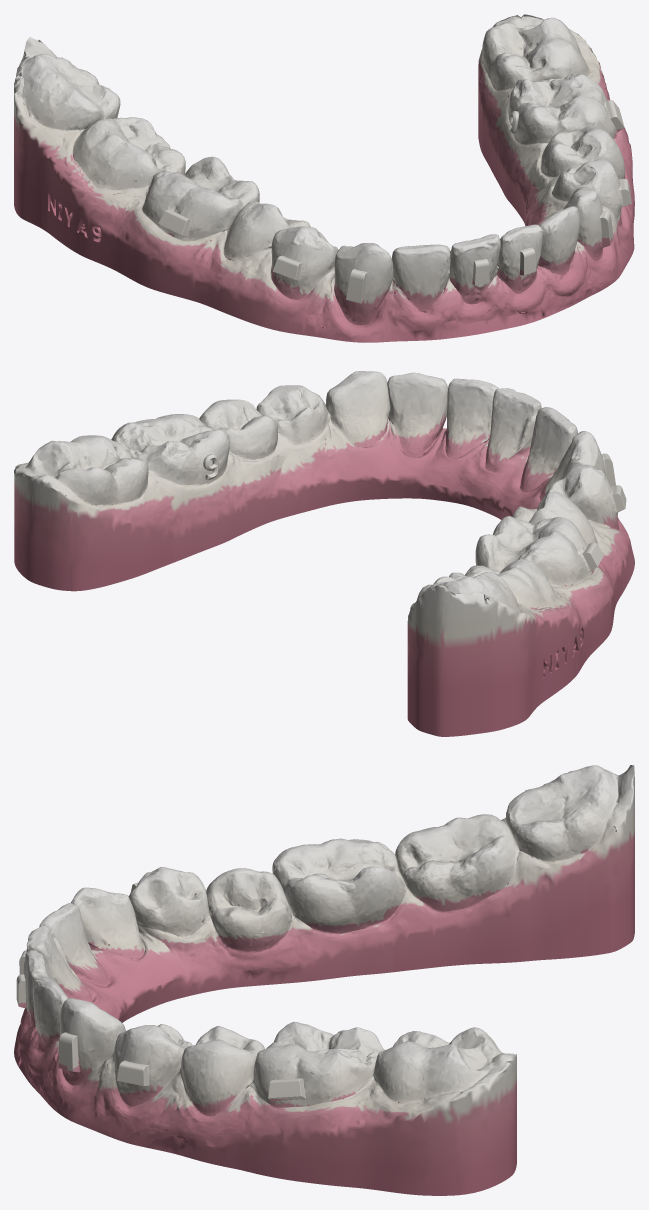
Rendered from Niya Priority Lower jaw - 09 - Model.glb.
3 views of the same model, one above another, from view 1: azimuth 30°, elevation 25°; view 2: azimuth 150°, elevation 25°; view 3: azimuth 270°, elevation 25° (orthographic). The views are drawn at different scales.
Visible parts, largest first — view 1: Niya Priority Lower jaw - 09 - Model; view 2: Niya Priority Lower jaw - 09 - Model; view 3: Niya Priority Lower jaw - 09 - Model.
Boxes of the visible parts, x1,y1,x2,y2 form: Niya Priority Lower jaw - 09 - Model: [14, 14, 634, 342]; Niya Priority Lower jaw - 09 - Model: [14, 371, 634, 736]; Niya Priority Lower jaw - 09 - Model: [14, 765, 634, 1195].
Bounding box in the file's own units: 62.72 × 16.53 × 56.55.
